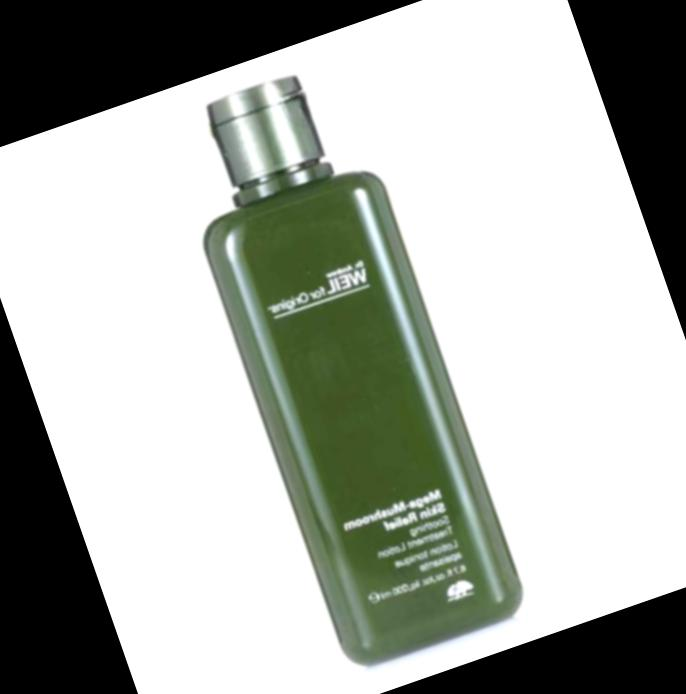cosmetic: (153, 49, 536, 678)
